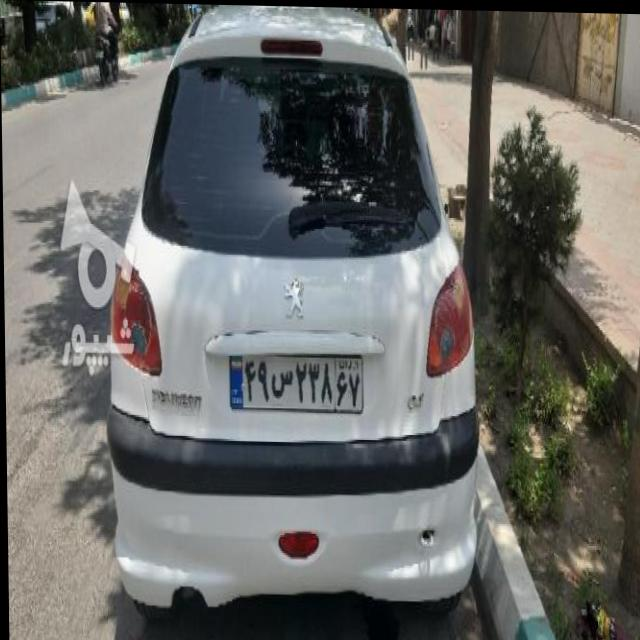licence: (229, 343, 364, 417)
